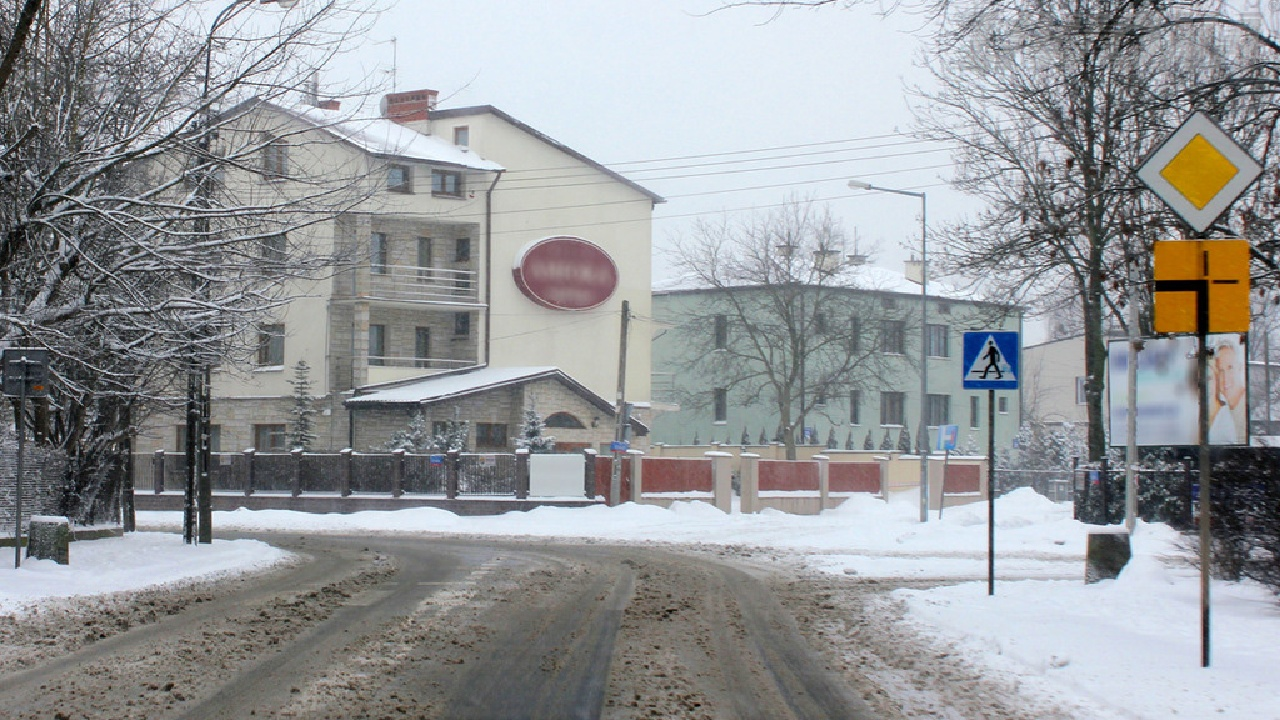D1: (1134, 111, 1265, 235)
D6: (962, 331, 1020, 390)
